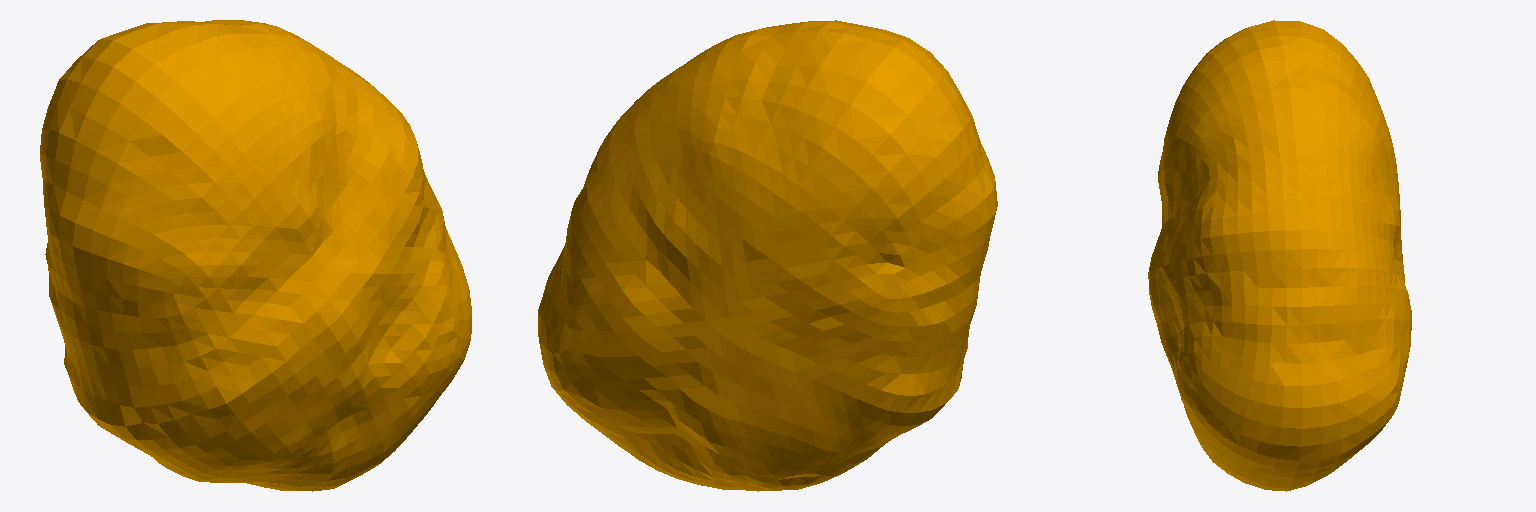
URDF robot description (rock):
<?xml version="1.0" ?>
<robot name="rock">
  <link name="rock">
    <inertial>
      <mass value="0.320"/>
      <origin rpy="0 0 0" xyz="0 0 0"/>
      <inertia ixx="0.000320" ixy="0" ixz="0" iyy="0.000320" iyz="0" izz="0.000320"/>
    </inertial>
    <collision name="rock_collision">
      <origin rpy="0 0 0" xyz="0 0 0"/>
      <geometry>
        <mesh filename="package://rocks/visual/109.dae" scale="1 1 1"/>
      </geometry>
    </collision>
    <visual name="rock_visual">
      <origin rpy="0 0 0" xyz="0 0 0"/>
      <geometry>
        <mesh filename="package://rocks/visual/109.dae" scale="1 1 1"/>
      </geometry>
    </visual>
  </link>
</robot>

--- Render facts (derived) ---
3 views of the same robot in one strip: view 1: azimuth 30°, elevation 25°; view 2: azimuth 150°, elevation 25°; view 3: azimuth 270°, elevation 25° (orthographic).
Robot: rock — 1 links, 0 joints (none); root link rock; default pose: all joints at 0.
Visible links, largest first — view 1: rock; view 2: rock; view 3: rock.
Boxes of the visible links, x1,y1,x2,y2 form: rock: [40, 20, 471, 491]; rock: [538, 20, 997, 491]; rock: [1148, 20, 1411, 491].
Bounding box of the posed robot: 0.076 × 0.051 × 0.0838 m (x, y, z).
Meshes: 1 distinct files referenced, 1 mesh visuals loaded (1 Collada DAE).